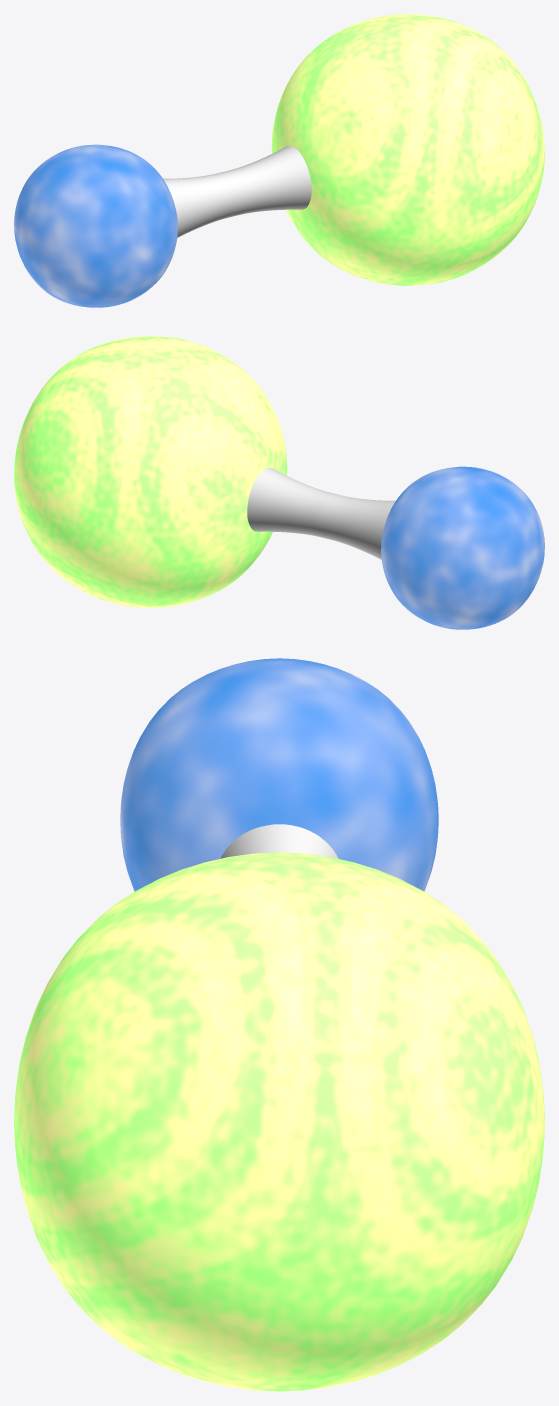
3 renders of one model, top to bottom at view 1: azimuth 30°, elevation 25°; view 2: azimuth 150°, elevation 25°; view 3: azimuth 270°, elevation 25°, orthographic. The views are drawn at different scales.
Visible parts, largest first — view 1: jednosytne_kyseliny; view 2: jednosytne_kyseliny; view 3: jednosytne_kyseliny.
Part boxes in pixels (bbox=[...]): jednosytne_kyseliny: bbox=[14, 14, 544, 307]; jednosytne_kyseliny: bbox=[14, 336, 544, 629]; jednosytne_kyseliny: bbox=[14, 658, 544, 1391].
Bounding box in the file's own units: 5.2 × 2.42 × 2.42.
Materials: 3 (2 with a texture image).
